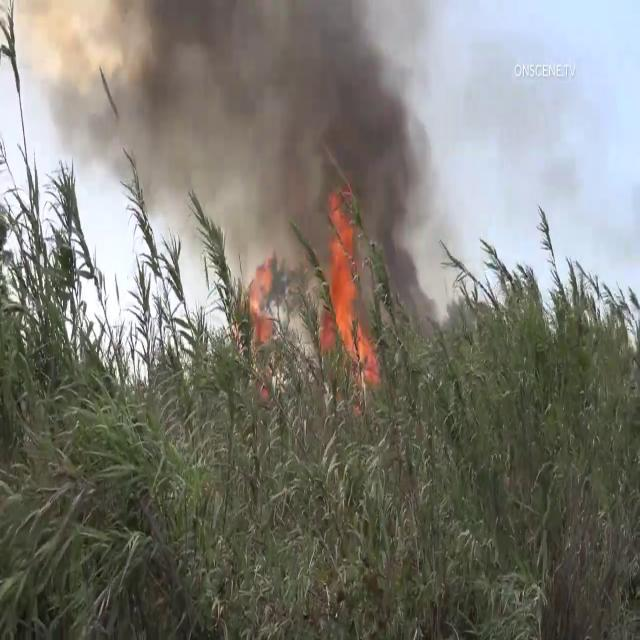Fire: (322, 192, 376, 378)
Smoke: (41, 0, 445, 278)
